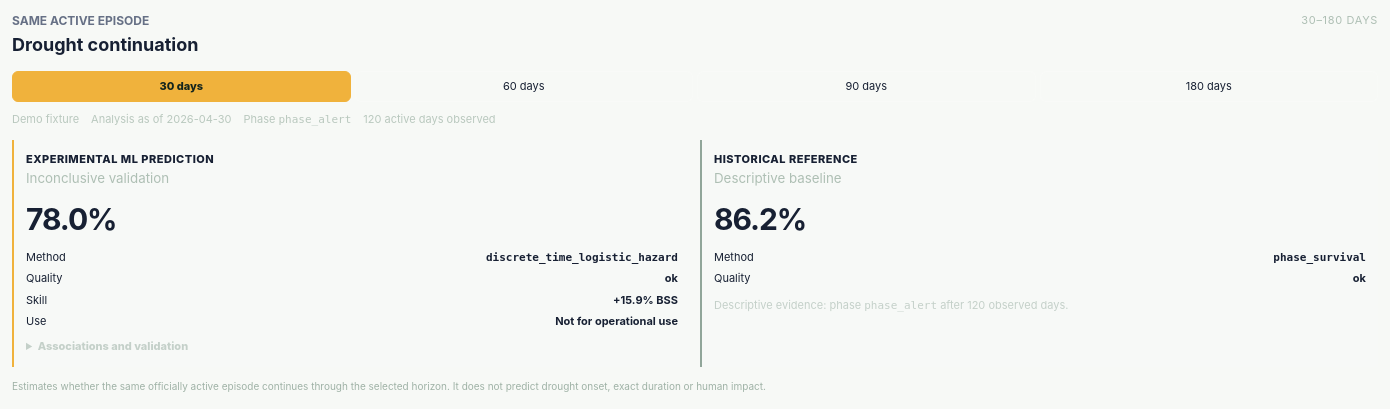
Drought continuation UI › shows only the historical reference at long horizons
Step 1. Click the button "60 days" → (524, 87), box x1=354 y1=71 x2=693 y2=102
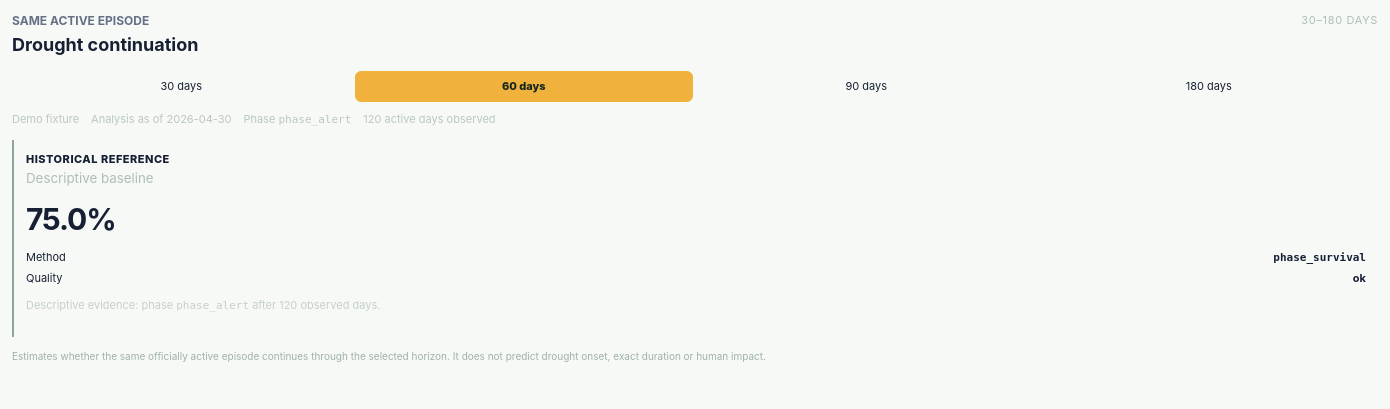
expect the text "Historical reference" is shown: met, box x1=26 y1=152 x2=170 y2=166
expect the text "75.0%" is shown: met, box x1=26 y1=201 x2=116 y2=237
expect the text "Experimental ML prediction" is gone: met
